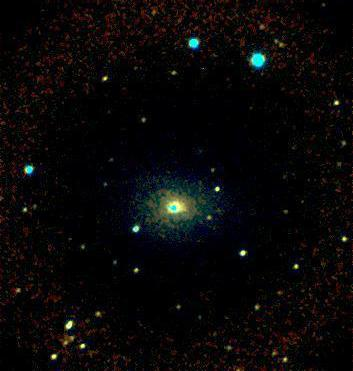star: (120, 54, 150, 84)
